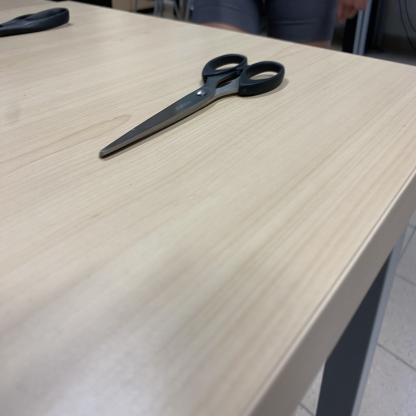scissors: (98, 52, 287, 160), (0, 7, 72, 38)
